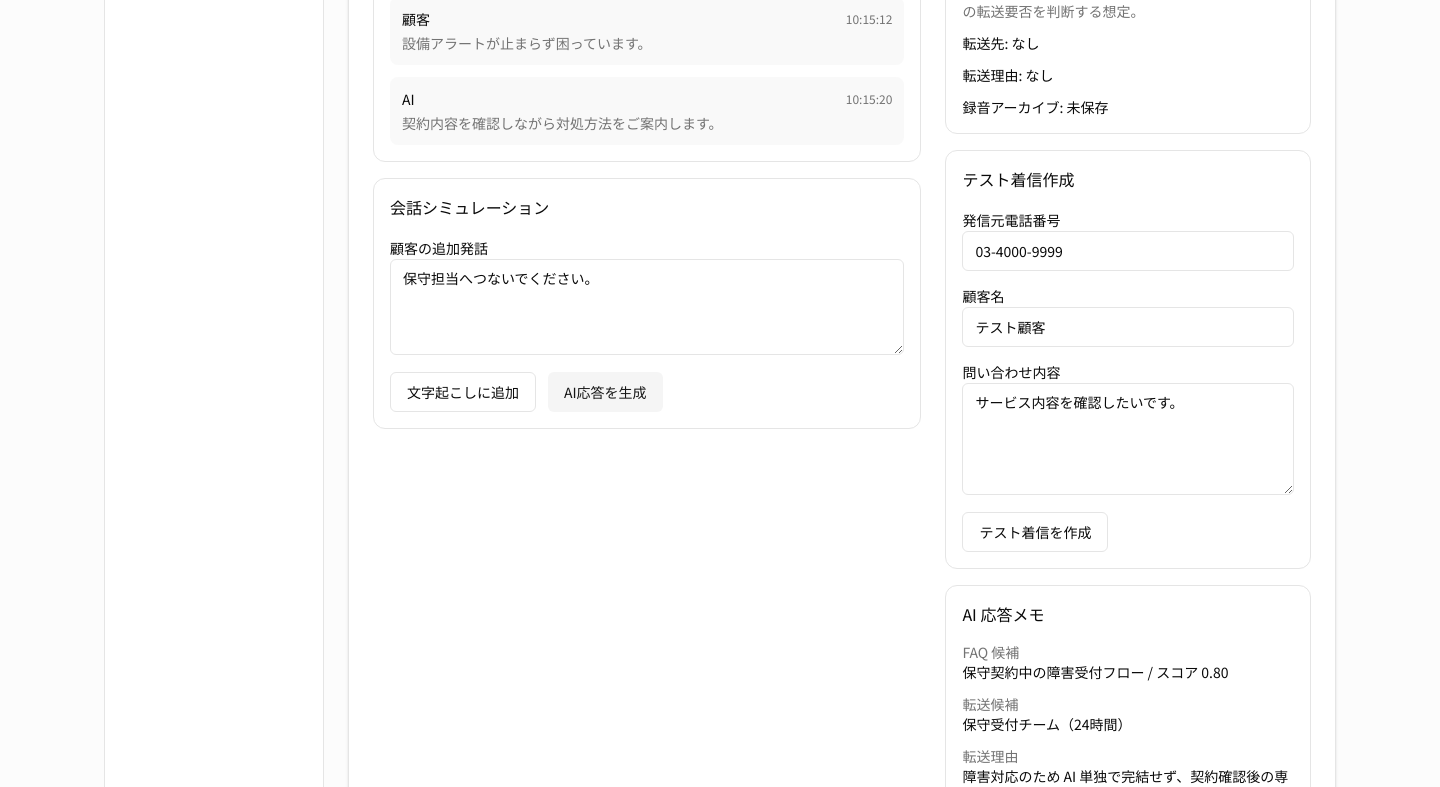
Test: CallConsolePage › AI応答を生成すると要約と録音先が更新される
This screenshot has width=1440, height=787.
(page scrolled)
Click the button "AI応答を生成" at (605, 392), box [548,372,663,412]
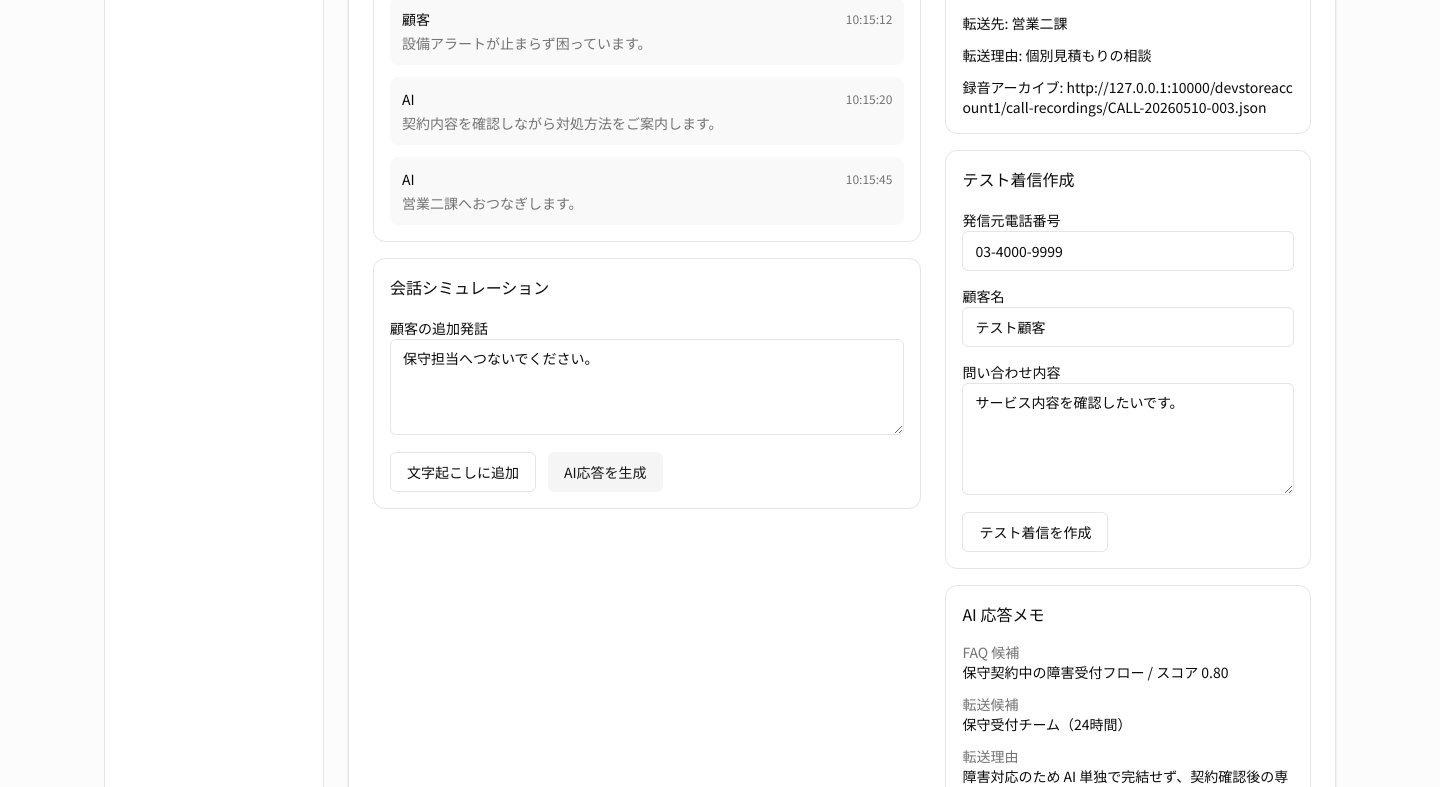
Check: the text "営業二課" is shown, box [1011,13,1067,33]
Check: the text "call-recordings/CALL-20260510-003.json" is shown, box [962,77,1293,117]
